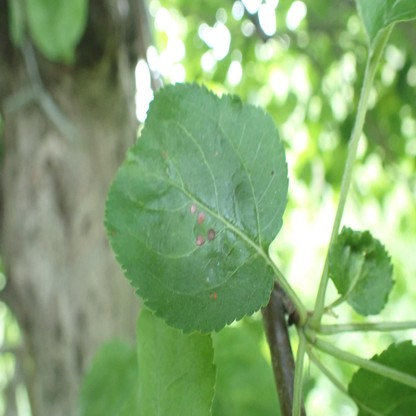frogeye_leaf_spot: (197, 210, 206, 223), (208, 229, 216, 242), (196, 236, 205, 247), (209, 292, 219, 298), (191, 203, 196, 214)
